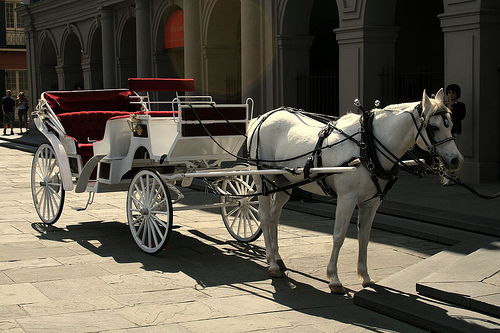horse: (245, 85, 465, 297)
